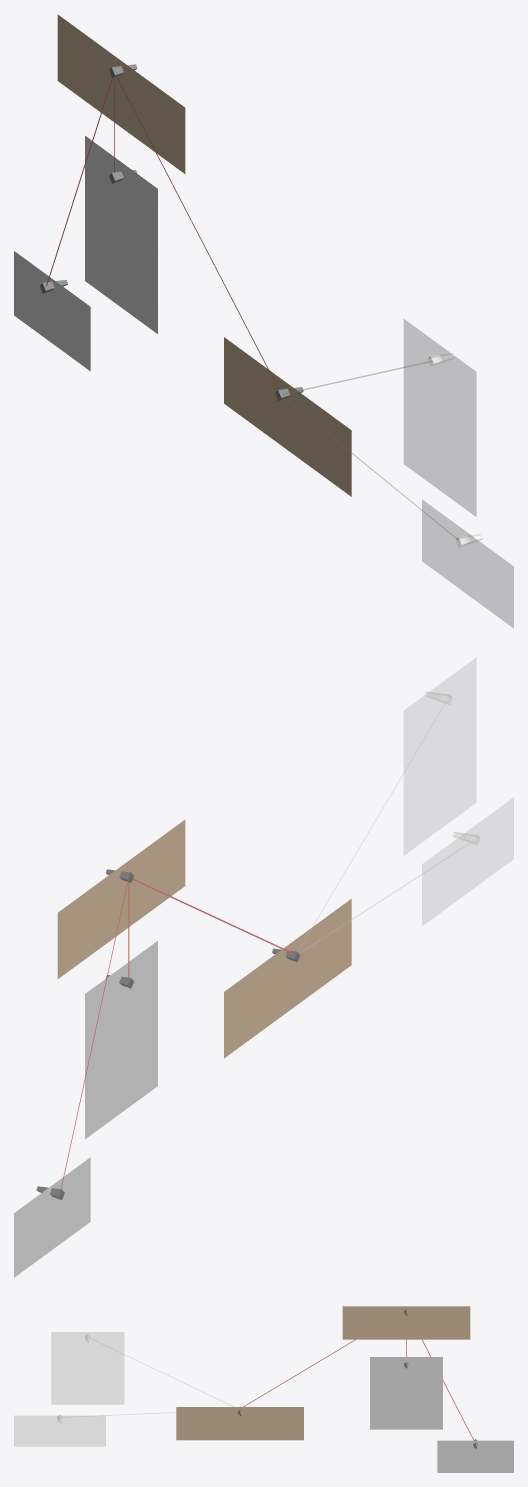
The model's file is MindPlaceNotes.fbx.
3 views of the same model, one above another, from view 1: azimuth 30°, elevation 25°; view 2: azimuth 150°, elevation 25°; view 3: azimuth 270°, elevation 25° (orthographic). The views are drawn at different scales.
Visible parts, largest first — view 1: Cube.070, Cube.064, Cube.069, Cube.063, Cube.068, Cube.062; view 2: Cube.070, Cube.064, Cube.069, Cube.063, Cube.068, Cube.062; view 3: Cube.064, Cube.070, Cube.069, Cube.063, Cube.068, Cube.062.
Part boxes in pixels (x1,y1,x2,y2): Cube.070: (85, 136, 157, 333); Cube.064: (404, 319, 476, 516); Cube.069: (57, 14, 185, 173); Cube.063: (224, 337, 351, 496); Cube.068: (422, 499, 513, 627); Cube.062: (14, 251, 90, 371); Cube.070: (85, 941, 157, 1139); Cube.064: (404, 657, 476, 855); Cube.069: (57, 819, 185, 978); Cube.063: (224, 899, 351, 1058); Cube.068: (422, 797, 513, 925); Cube.062: (14, 1157, 90, 1277); Cube.064: (51, 1332, 123, 1404); Cube.070: (370, 1357, 442, 1429); Cube.069: (342, 1306, 470, 1339); Cube.063: (176, 1406, 303, 1440); Cube.068: (14, 1414, 105, 1446); Cube.062: (437, 1439, 513, 1472).
Bounding box in the file's own units: 10 × 133 × 361.
